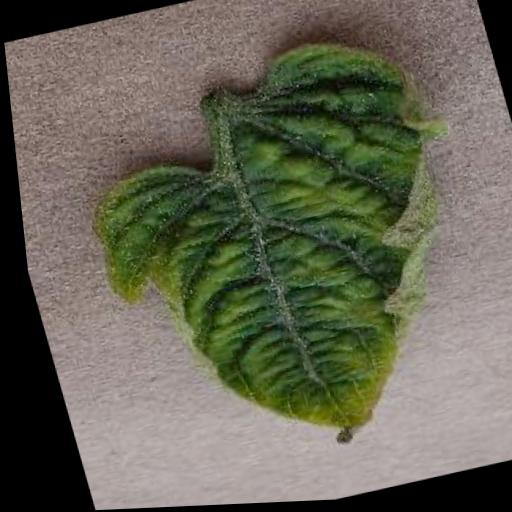Yellow Leaf Curl Virus: (44, 22, 509, 488)
